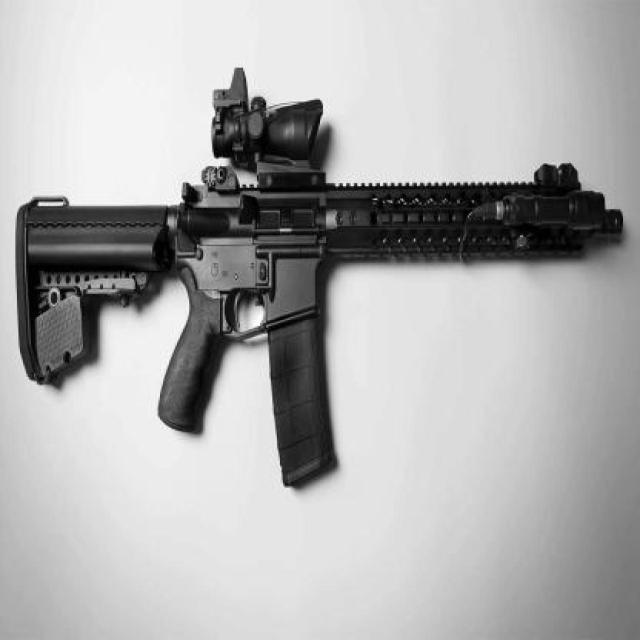weapon: (15, 66, 622, 492)
